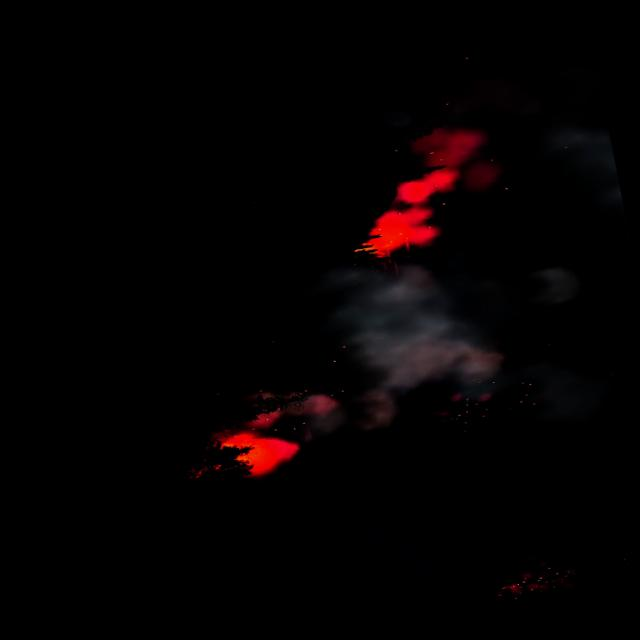fire: (348, 197, 446, 265), (215, 420, 303, 482), (497, 564, 578, 604)
smoke: (192, 52, 640, 481)
